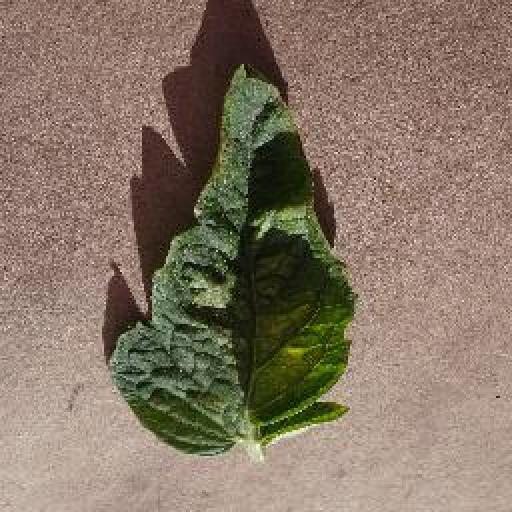disease_tomato: (104, 60, 356, 458)
